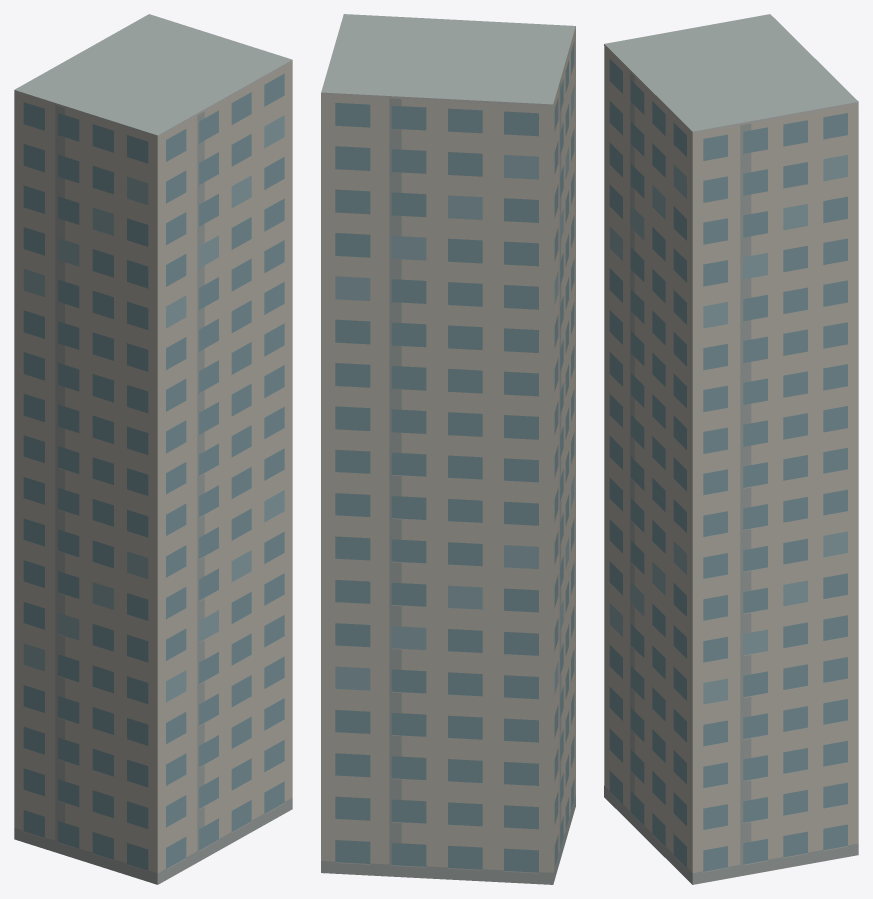
The model's file is residential-b809041e-c1ab-4404-9446-195e870227b5.glb.
3 views of the same model, side by side, from view 1: azimuth 30°, elevation 25°; view 2: azimuth 150°, elevation 25°; view 3: azimuth 270°, elevation 25° (orthographic). The views are drawn at different scales.
Parts seen in each view (by area): view 1: residential-b809041e-c1ab-4404-9446-195e870227b5.tmp; view 2: residential-b809041e-c1ab-4404-9446-195e870227b5.tmp; view 3: residential-b809041e-c1ab-4404-9446-195e870227b5.tmp.
Part boxes in pixels (box(x1,y1,x2,y2)): residential-b809041e-c1ab-4404-9446-195e870227b5.tmp: box(14, 14, 292, 884); residential-b809041e-c1ab-4404-9446-195e870227b5.tmp: box(321, 14, 575, 884); residential-b809041e-c1ab-4404-9446-195e870227b5.tmp: box(604, 14, 858, 884).
Bounding box in the file's own units: 28.14 × 84 × 25.74.
